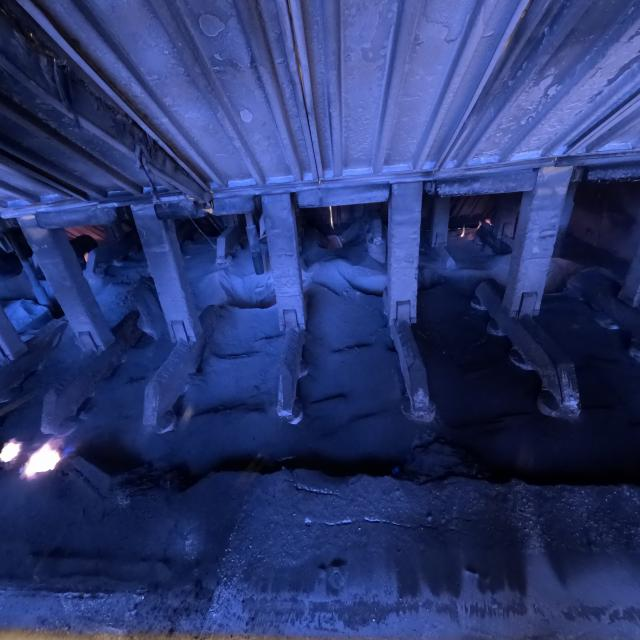Blackspot: (352, 276, 388, 296)
